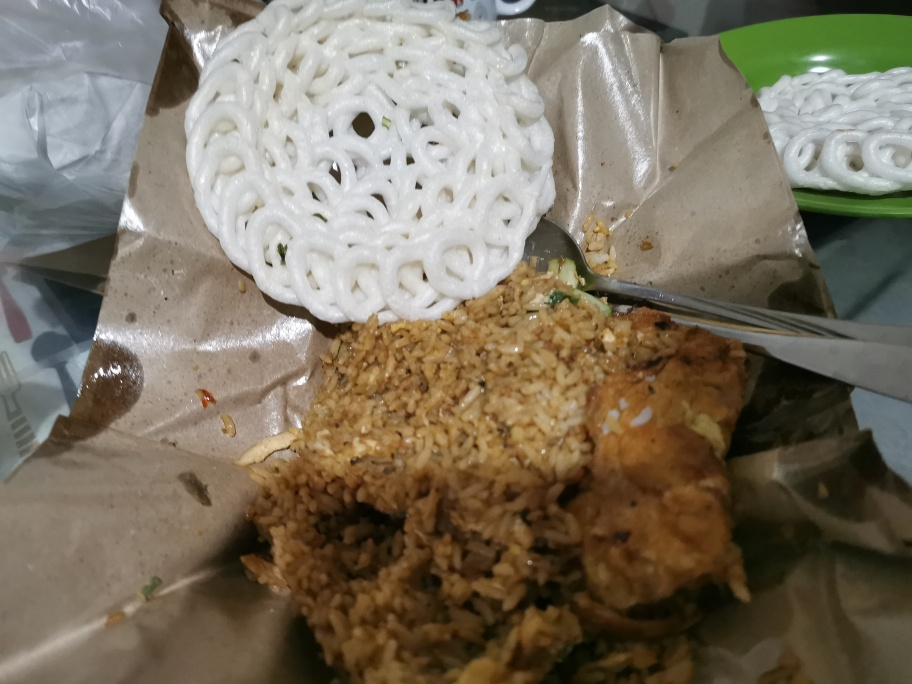kerupuk: (181, 1, 554, 319)
nasi goreng: (259, 322, 734, 684)
